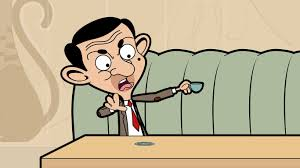mrbean: (60, 17, 193, 135)
